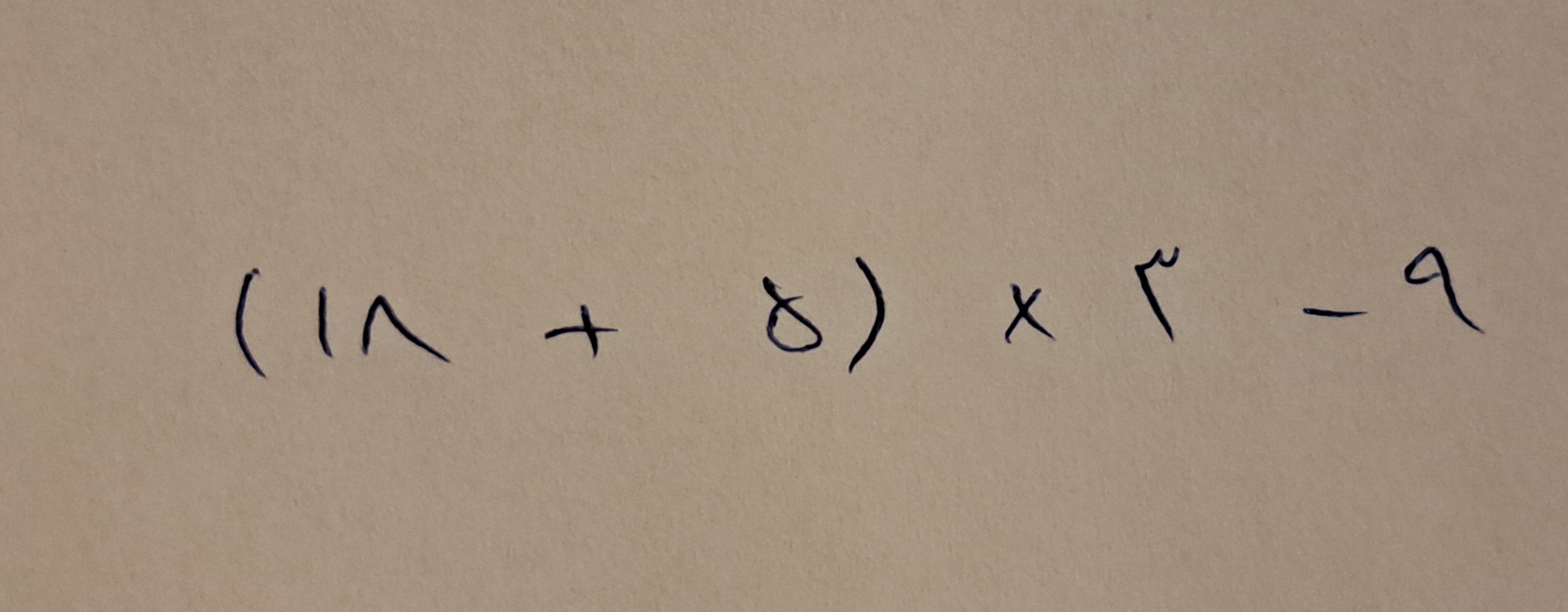character: (1404, 246, 1484, 335), (362, 294, 451, 363), (762, 276, 824, 353), (848, 256, 886, 373), (1134, 248, 1179, 340), (235, 269, 271, 378), (543, 304, 618, 356), (1005, 284, 1057, 346), (317, 288, 333, 358), (1303, 306, 1367, 321)
